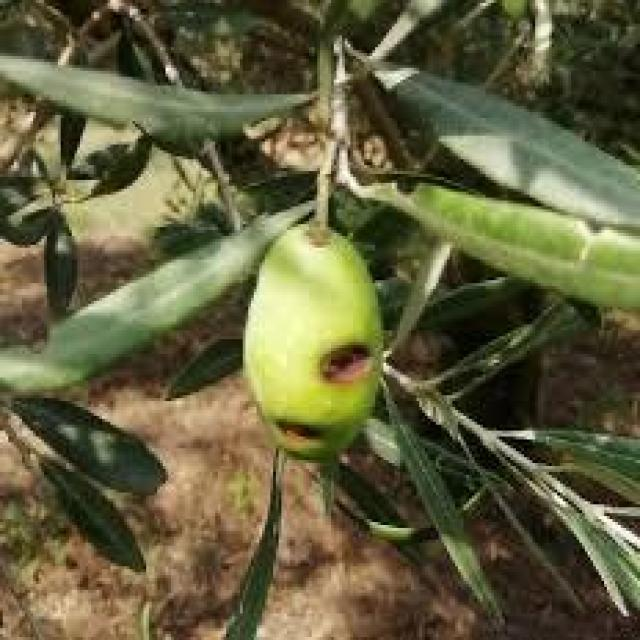Anthracnose: (242, 221, 380, 457)
